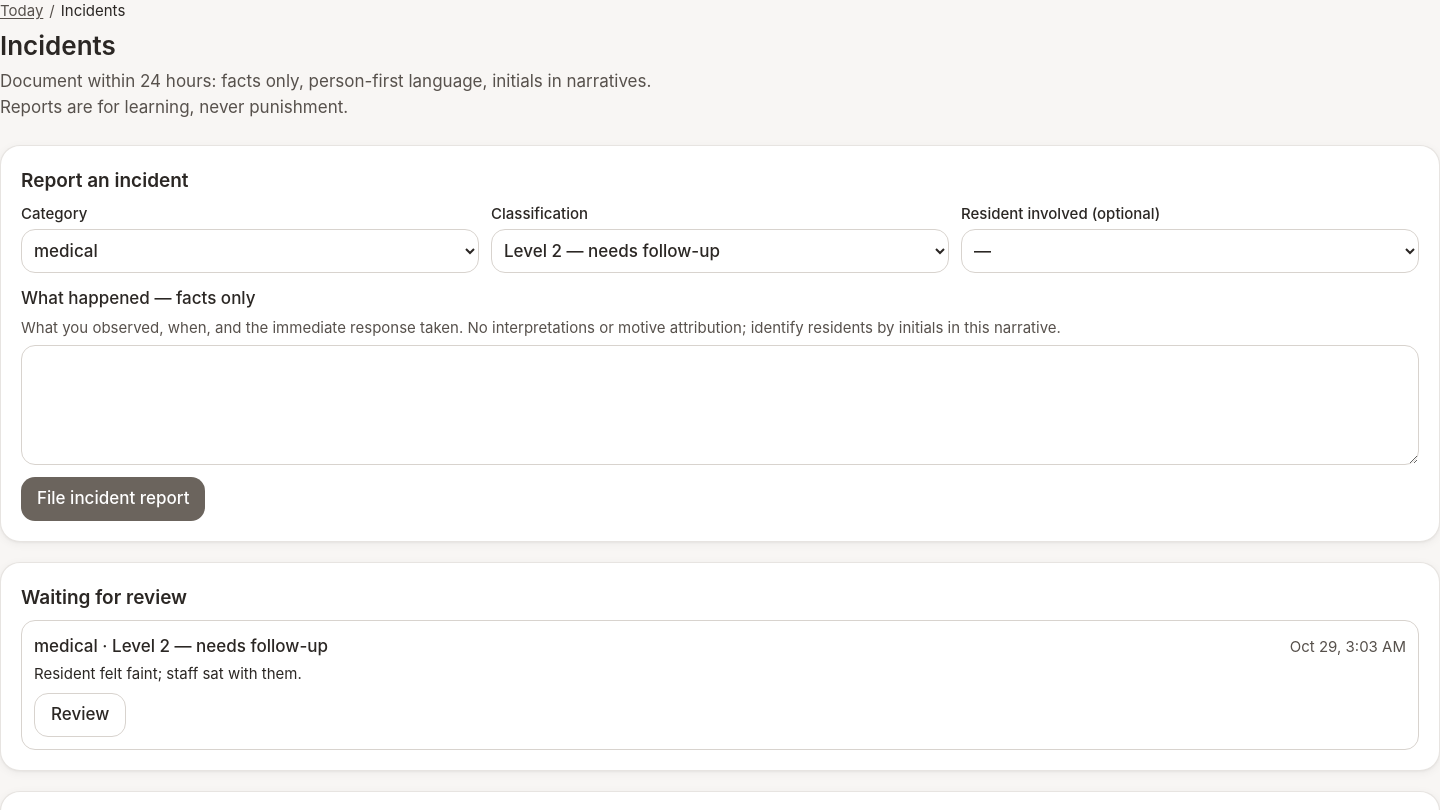
Test case: IncidentsPage review › surfaces the server refusal verbatim
This screenshot has width=1440, height=810.
Click the button "Review" at [80, 715], box x1=34 y1=693 x2=126 y2=737
(page scrolled)
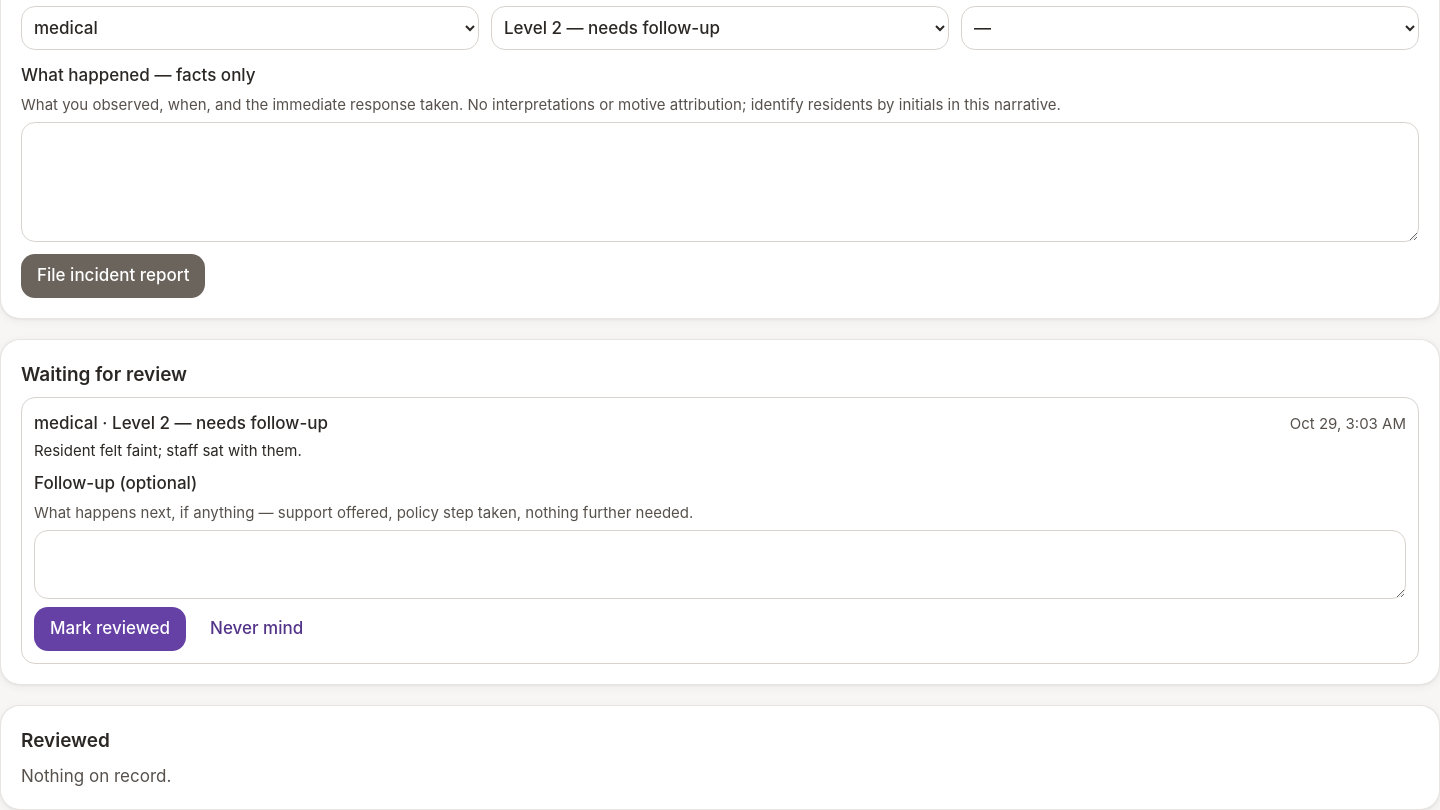
Click the button "Mark reviewed" at [110, 629], box x1=34 y1=607 x2=186 y2=651
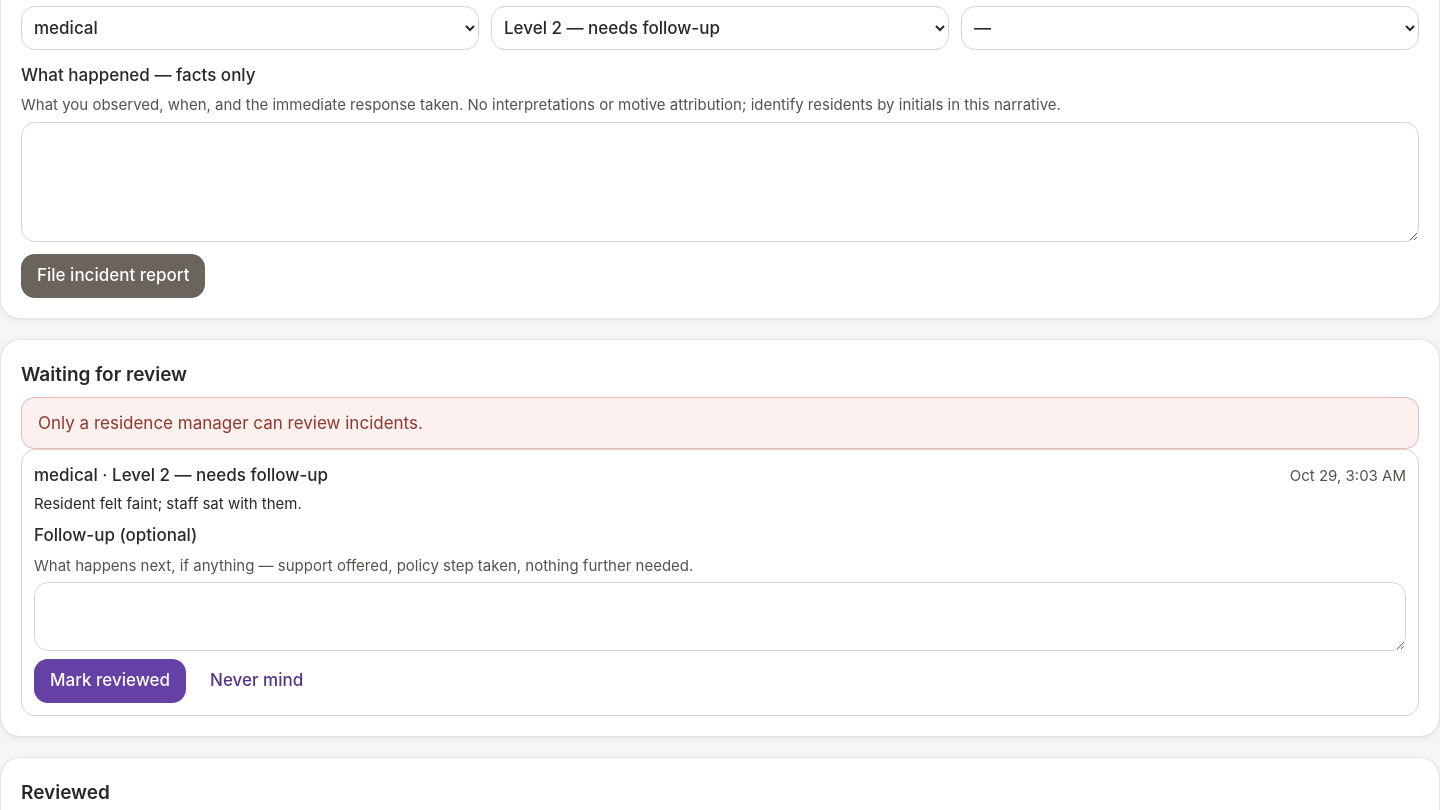
Result: the text "Only a residence manager can review incidents." is shown at x1=21 y1=397 x2=1419 y2=449
